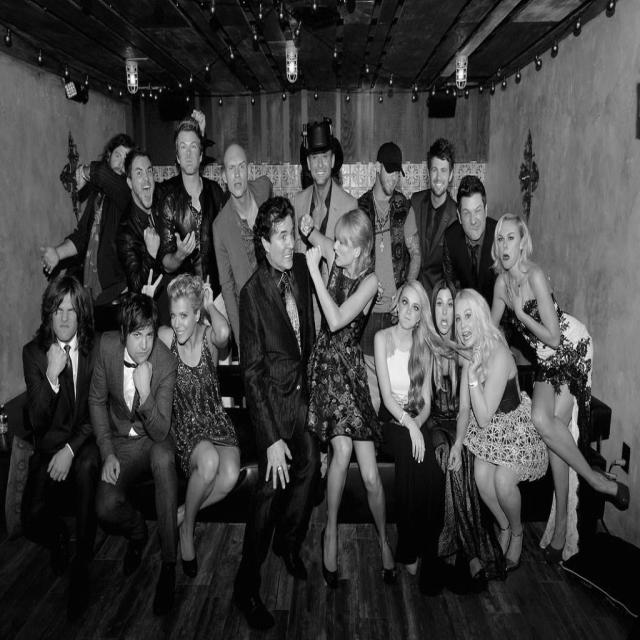person: (493, 214, 640, 561), (238, 200, 324, 622), (306, 199, 392, 611), (147, 279, 246, 608), (448, 286, 554, 585), (87, 288, 182, 619), (18, 276, 104, 616), (374, 271, 447, 601), (532, 367, 632, 566), (40, 134, 140, 299), (112, 143, 196, 329), (211, 143, 273, 353), (158, 122, 227, 293), (292, 129, 359, 270), (356, 143, 414, 297), (410, 140, 462, 296), (439, 176, 502, 304), (430, 270, 459, 358)
